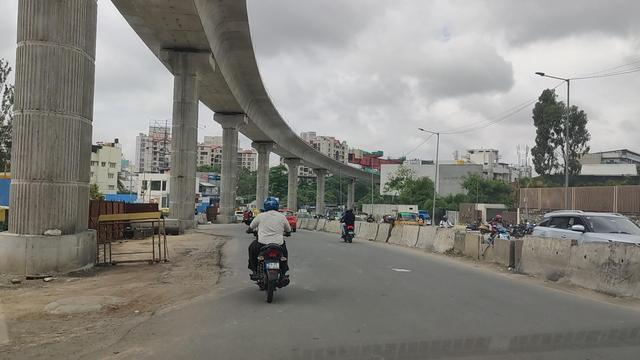LMV: (253, 199, 291, 299), (339, 205, 356, 240)
RoadDamages: (16, 318, 155, 356), (189, 230, 237, 289), (45, 289, 134, 317), (138, 274, 189, 316)
